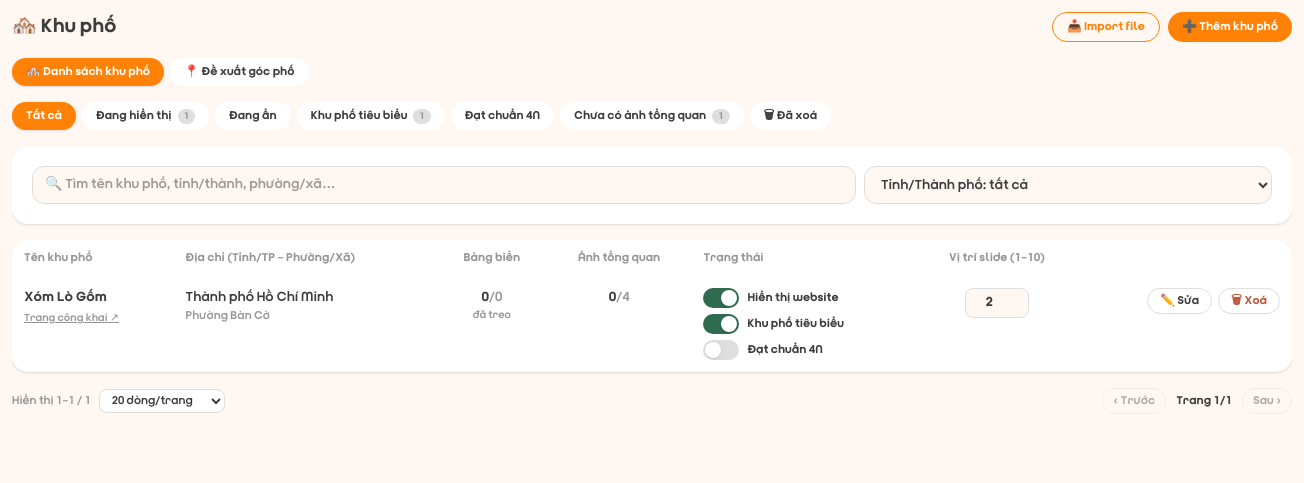
/admin/khu-pho — 3 trạng thái không còn điều kiện › ẩn website KHÔNG còn tự tắt tiêu biểu — chỉ gửi đúng cờ vừa bấm
Expected: the text "Xóm Lò Gốm" is shown, [24,290,107,305]
Click the switch labelled "Hiển thị website" at (803, 298), box [703,288,903,308]
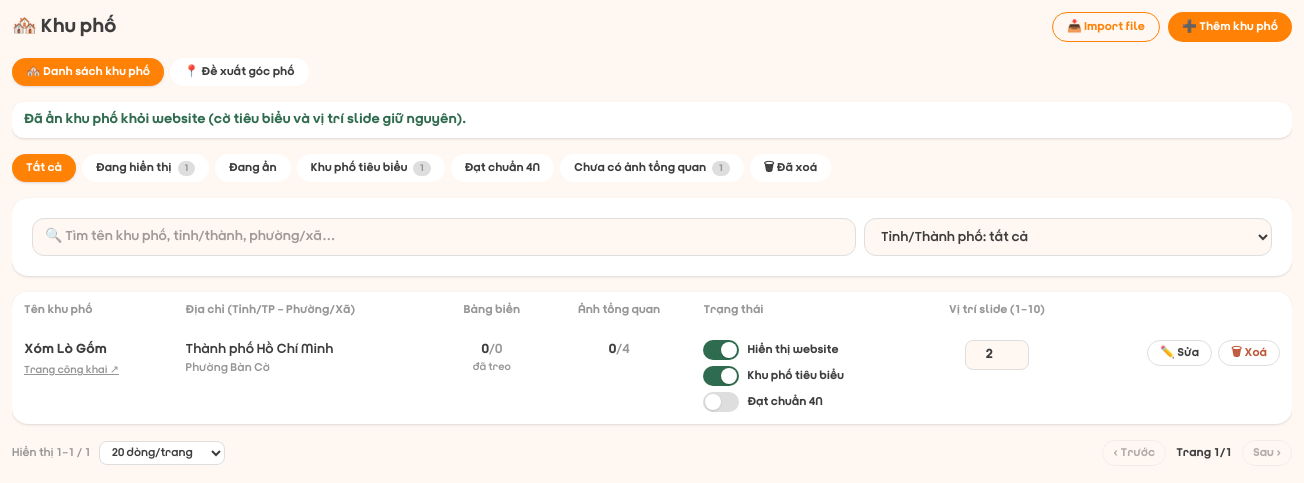
Result: the text "cờ tiêu biểu và vị trí slide giữ nguyên" is shown at [24,112,466,127]
